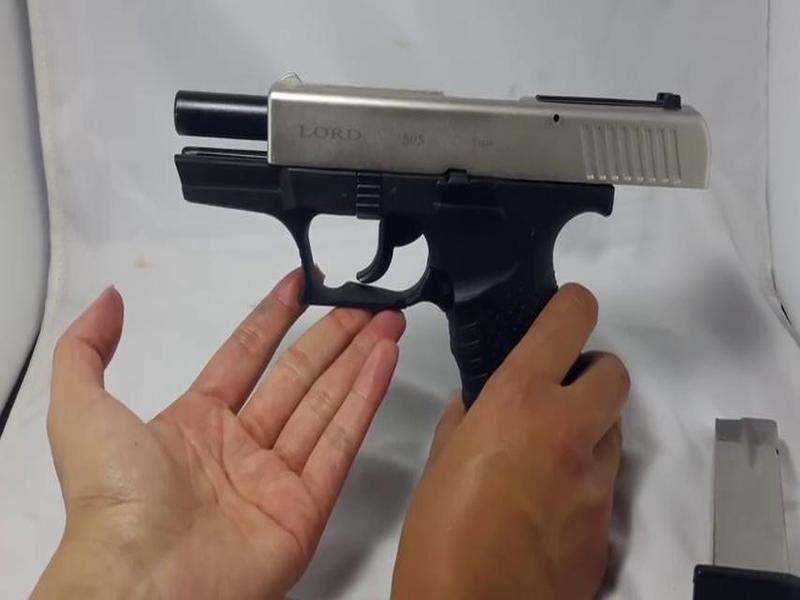Pistola: (165, 72, 742, 473)
